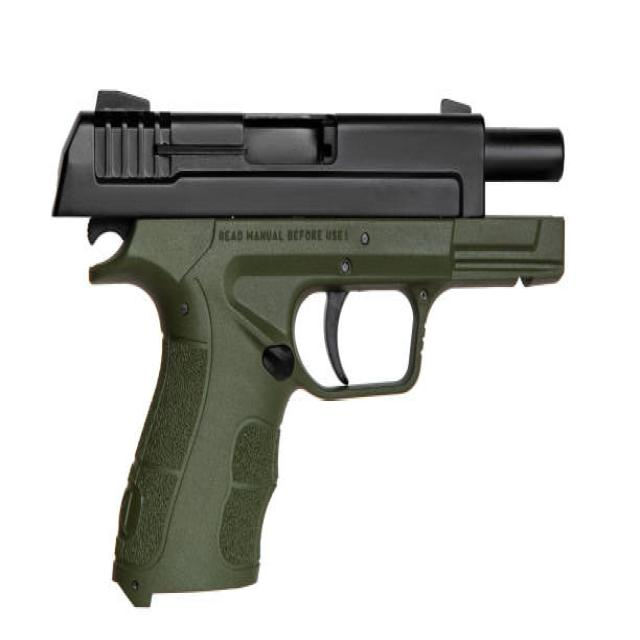pistol: (44, 85, 568, 622)
